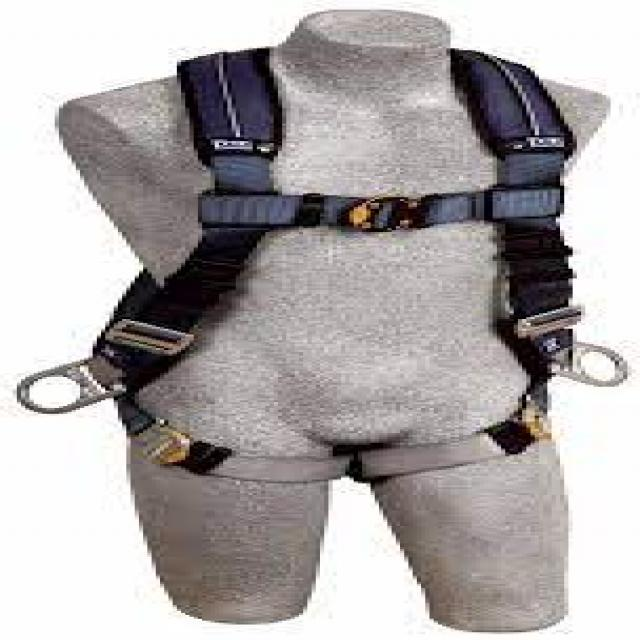belt: (0, 50, 640, 487)
